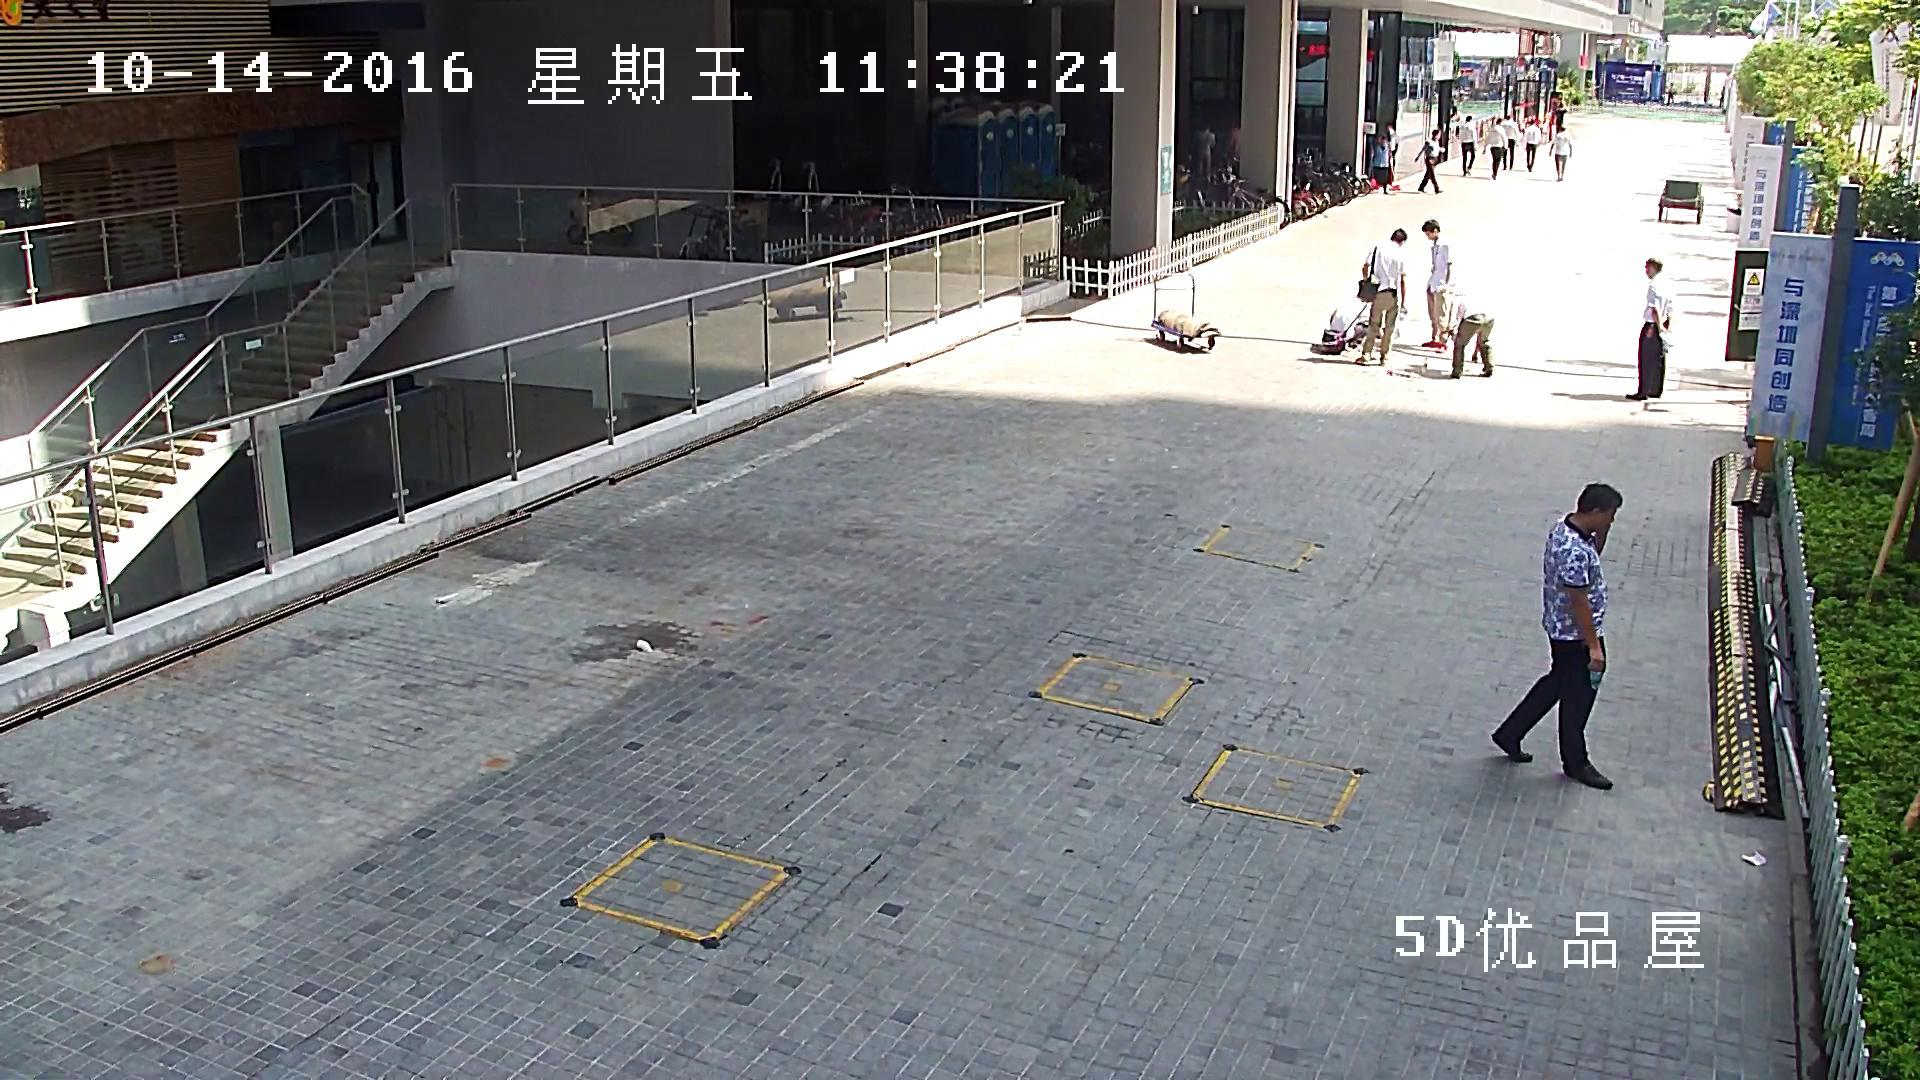person: (1491, 482, 1624, 790), (1310, 227, 1408, 366), (1354, 227, 1408, 366), (1625, 257, 1673, 400), (1434, 281, 1494, 379), (1421, 218, 1453, 348), (1414, 129, 1444, 193), (1481, 117, 1505, 180), (1369, 134, 1390, 194), (1549, 124, 1572, 180), (1458, 115, 1475, 176), (1195, 122, 1215, 174), (1523, 119, 1540, 172), (1385, 123, 1399, 180), (1503, 115, 1518, 170), (1666, 82, 1674, 104)
